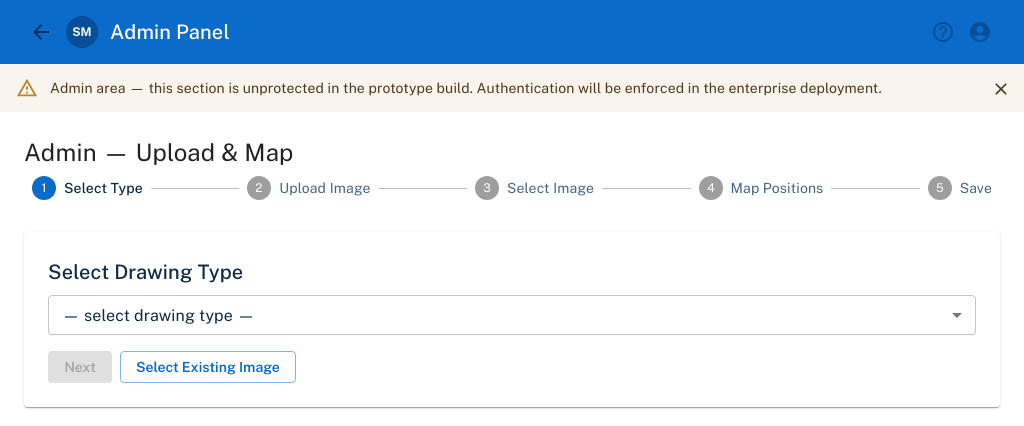
AdminUploadMappingPage › dismisses the disclaimer banner when closed
Expected: the text "unprotected in the prototype build" is shown, 50,80 -> 882,96
Click the button named "close".
click(1001, 89)  # box 986,74 -> 1016,104
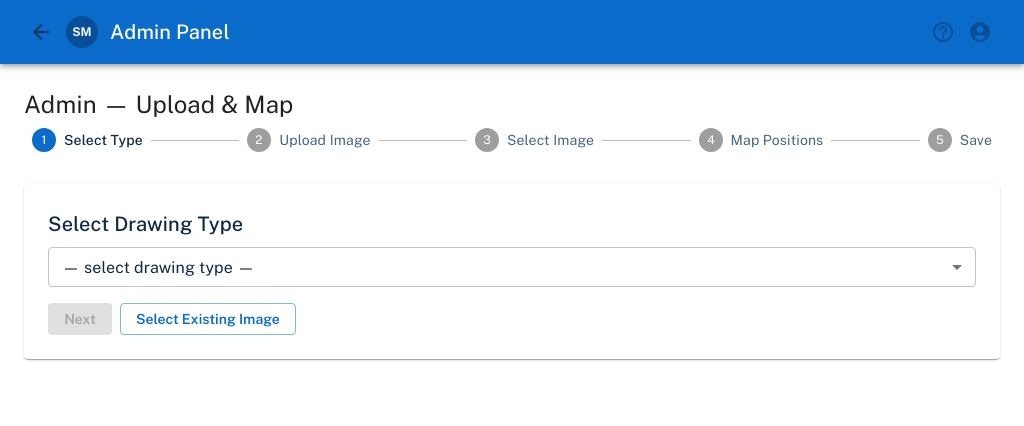
Result: the text "unprotected in the prototype build" is gone
